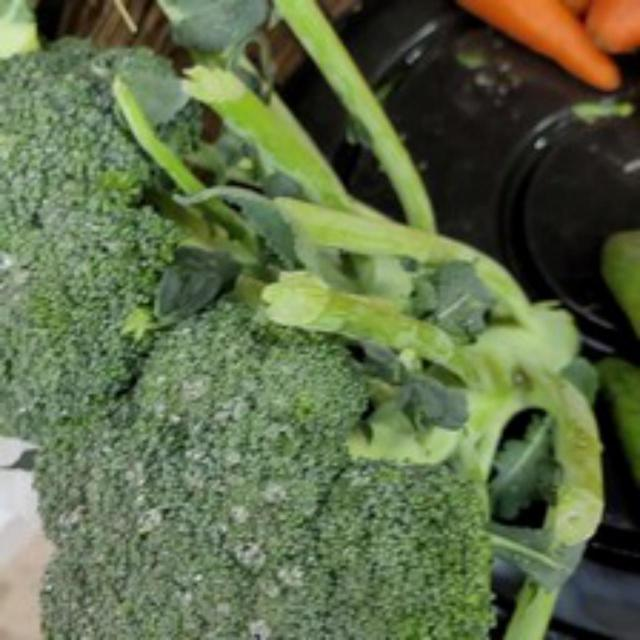broccoli: (23, 257, 565, 637)
